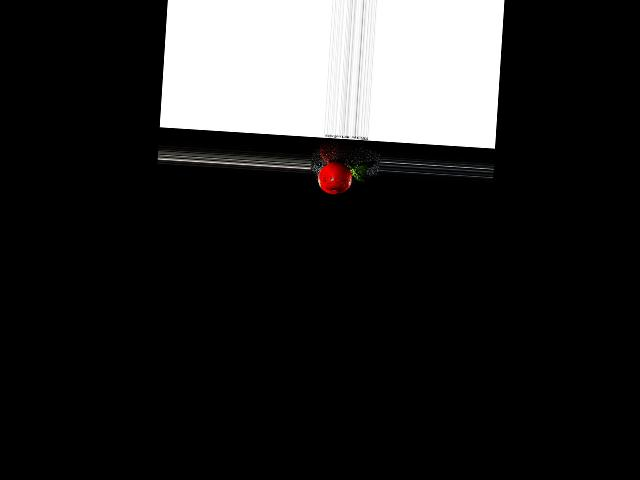tomato: (317, 161, 353, 195)
